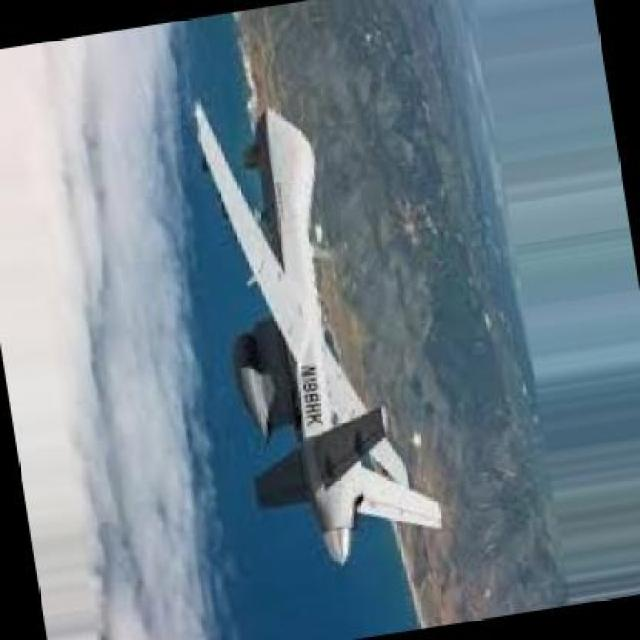iha: (191, 95, 447, 572)
